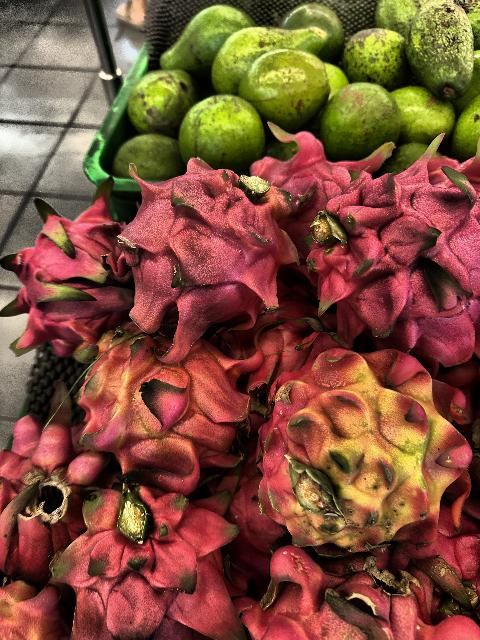buah-naga-belum-matang: (255, 334, 472, 548), (72, 330, 256, 484)
buah-naga-matang: (290, 170, 480, 342), (122, 164, 290, 344), (44, 498, 238, 640), (242, 534, 480, 640), (0, 187, 128, 346), (1, 408, 96, 572)
